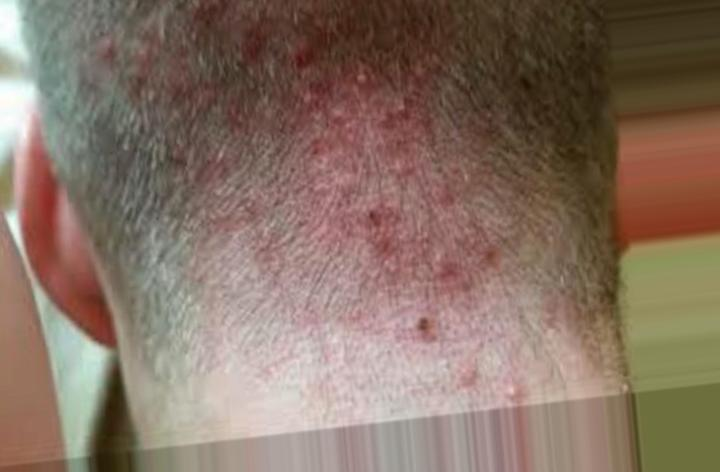Folliculitis: (243, 21, 491, 345)
